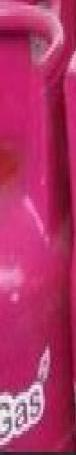cylinder: (1, 1, 76, 455)
